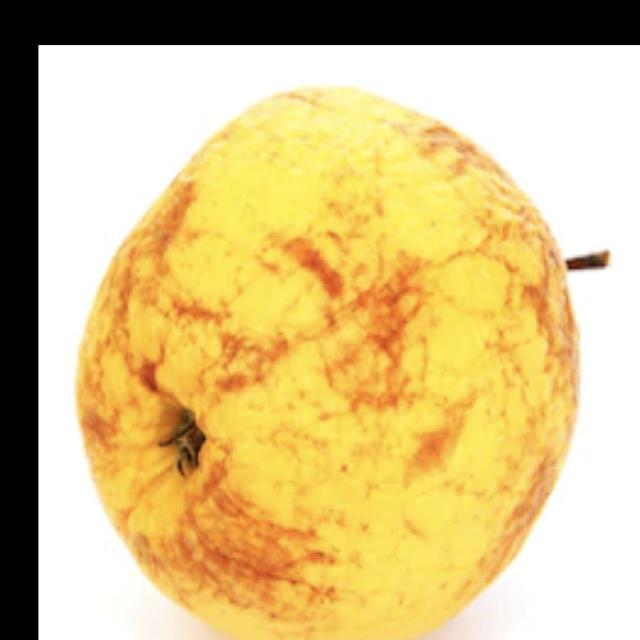Rotten: (74, 82, 584, 640)
